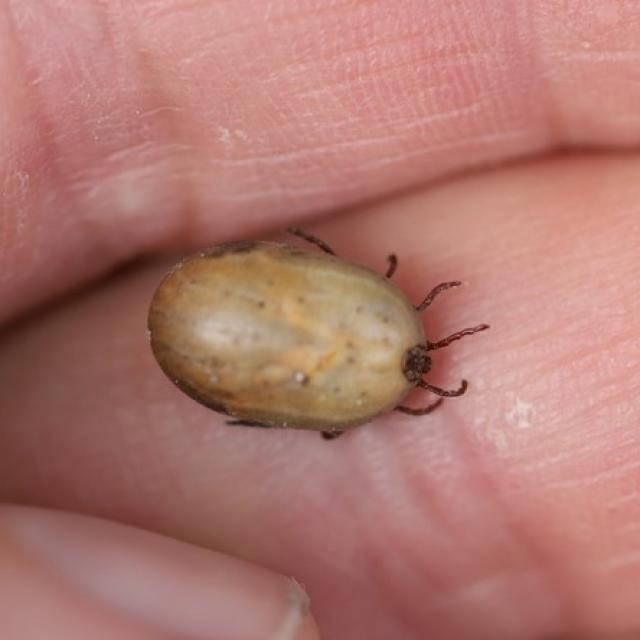Dermacentor Reticulatus-F-Fed: (146, 228, 489, 441)
